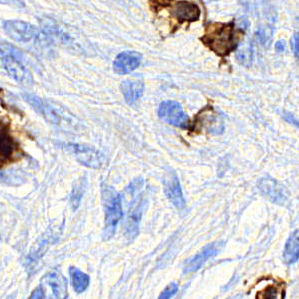Lymphocyte: (202, 20, 245, 63)
